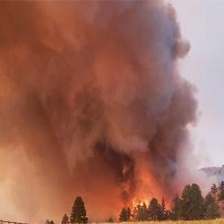fire: (115, 175, 178, 219)
smoke: (1, 1, 205, 165)
